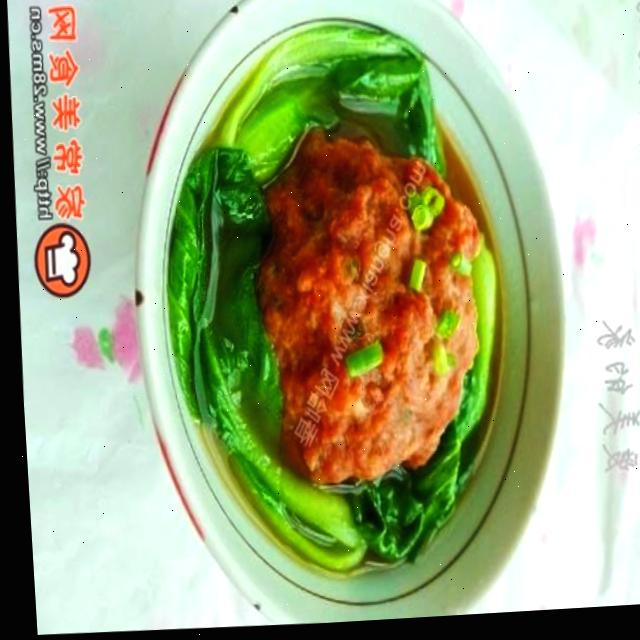猪肉菜式: (80, 0, 610, 628)
